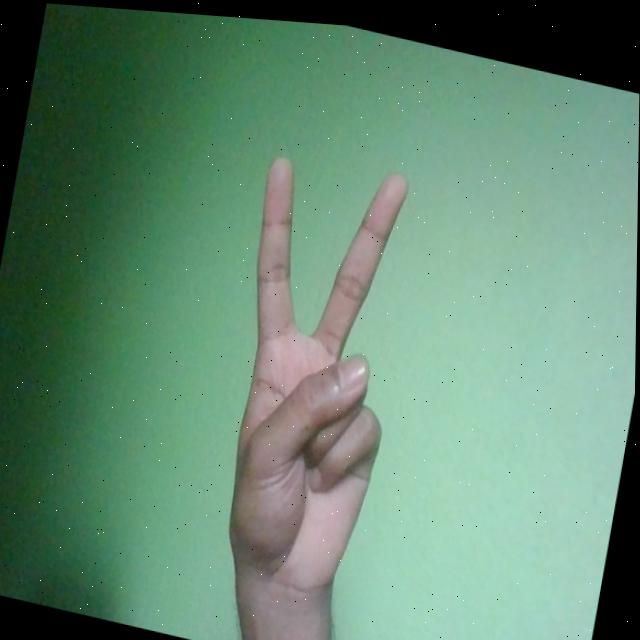Peace: (197, 135, 428, 618)
